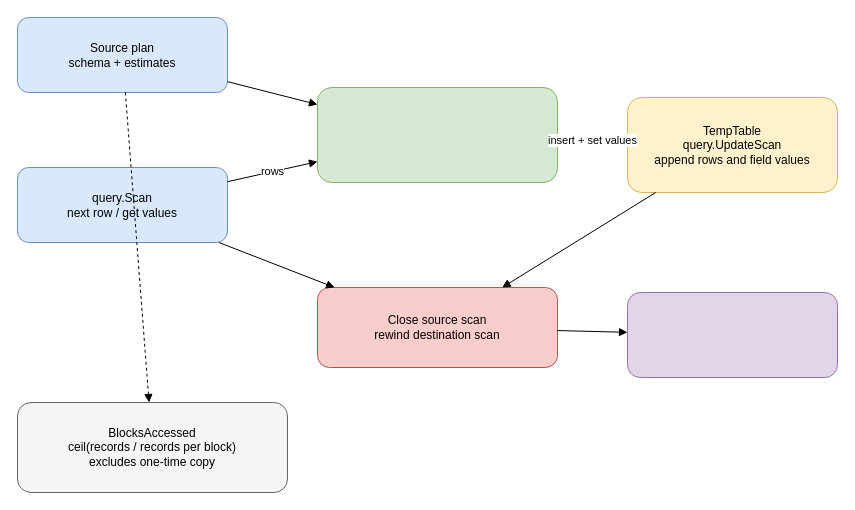
The diagram is 855 pixels wide and 510 high, and some of its shapes have lost their labels. The shapes that lost their labels are listed below. From the top down, each one's box as (x1, y1, x2, y2) in pixels, then its label:
(316, 86, 558, 182): MaterializePlan.Open copy each row in schema order
(626, 292, 838, 378): query.Scan returned before first row caller closes it
